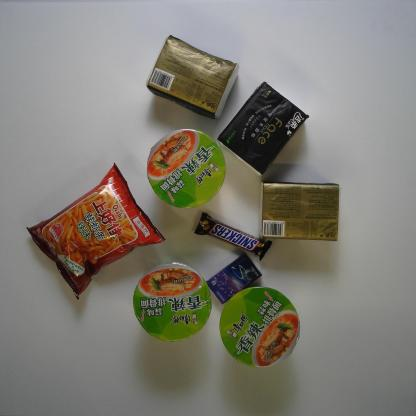Chocolate: (193, 212, 273, 261)
Gum: (205, 251, 262, 305)
Instant Noodles: (219, 285, 301, 369), (131, 261, 213, 343), (146, 127, 227, 210)
Puffed Food: (25, 162, 166, 301)
Tissue: (216, 80, 309, 176), (145, 33, 240, 121), (257, 181, 341, 242)
